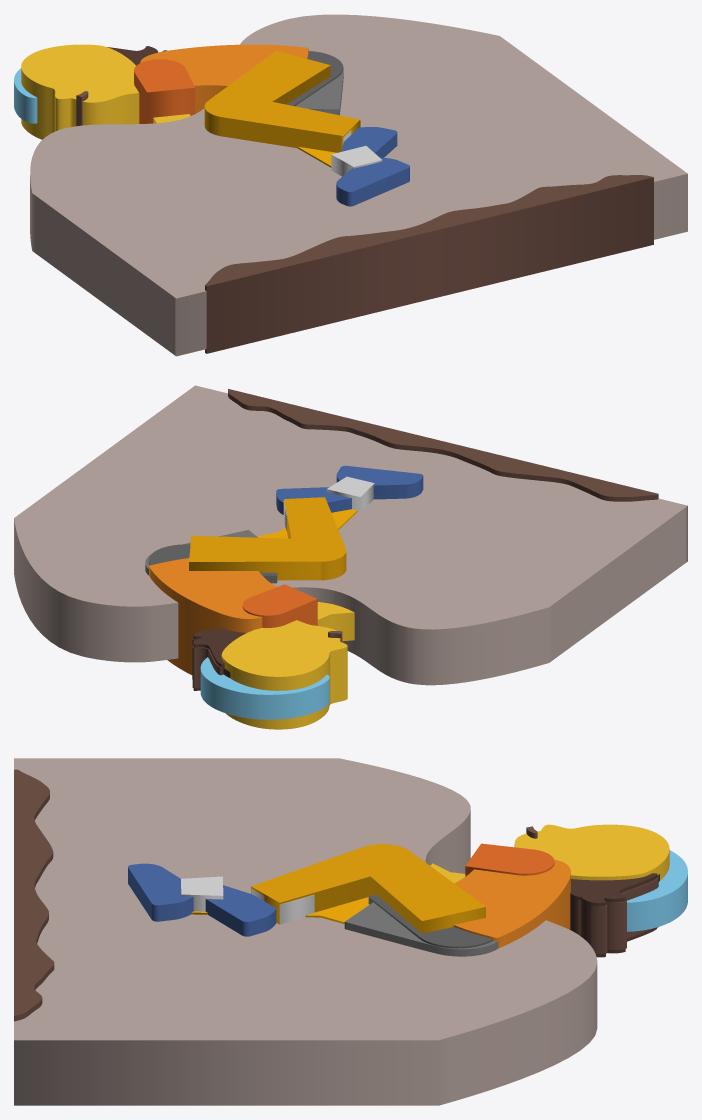
Rendered from emoji_u1f6b5.glb.
The picture shows the model from 3 angles, top to bottom: view 1: azimuth 30°, elevation 25°; view 2: azimuth 150°, elevation 25°; view 3: azimuth 270°, elevation 25°; orthographic projection. The views are drawn at different scales.
Visible parts, largest first — view 1: emoji_u1f6b5; view 2: emoji_u1f6b5; view 3: emoji_u1f6b5.
Part boxes in pixels (x1,y1,x2,y2): emoji_u1f6b5: (14,14,687,356); emoji_u1f6b5: (14,385,687,729); emoji_u1f6b5: (14,758,687,1105).
Size of the model in its own units: 0.0333 by 0.006 by 0.0336.
